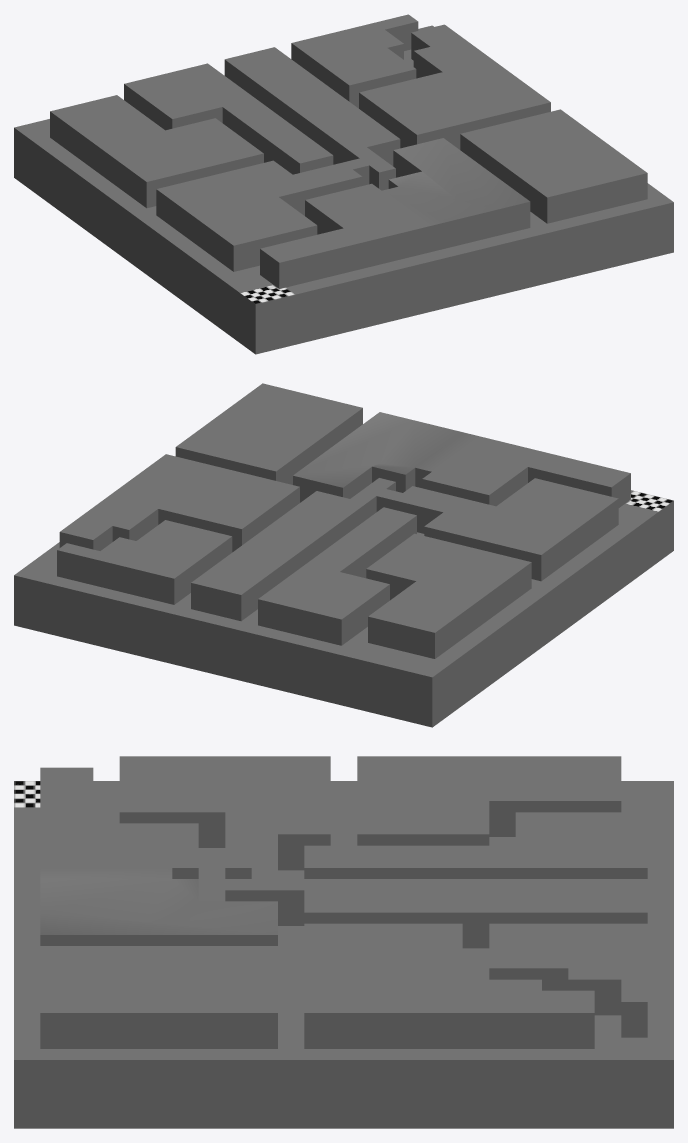
File: maze5.glb
The picture shows the model from 3 angles, top to bottom: view 1: azimuth 30°, elevation 25°; view 2: azimuth 150°, elevation 25°; view 3: azimuth 270°, elevation 25°; orthographic projection. The views are drawn at different scales.
Parts seen in each view (by area): view 1: pCube1; view 2: pCube1; view 3: pCube1.
Part boxes in pixels (box(x1,y1,x2,y2)): pCube1: box(14, 14, 673, 354); pCube1: box(14, 383, 673, 727); pCube1: box(14, 756, 673, 1128).
Bounding box in the file's own units: 12.5 × 2.18 × 12.5.
1 material, 1 textured.
